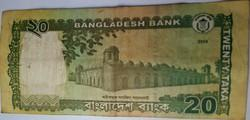20 taka: (2, 11, 245, 117)
